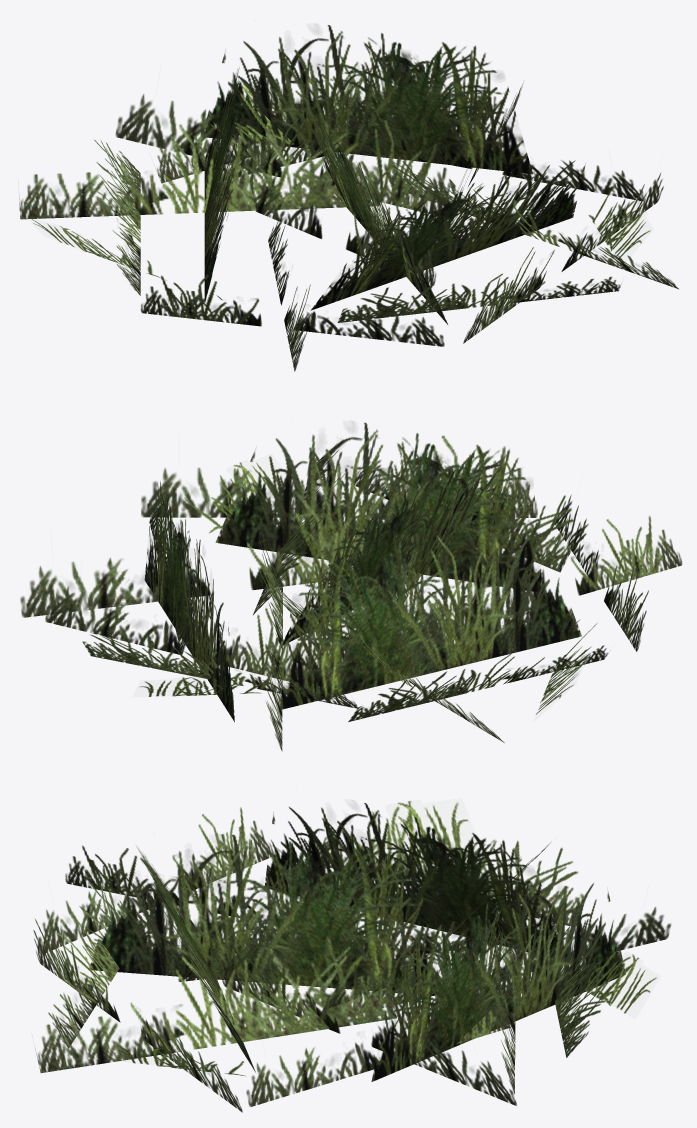
Rendered from grass_small.glb.
3 views of the same model, one above another, from view 1: azimuth 30°, elevation 25°; view 2: azimuth 150°, elevation 25°; view 3: azimuth 270°, elevation 25° (orthographic). The views are drawn at different scales.
Visible parts, largest first — view 1: grass3; view 2: grass3; view 3: grass3.
Part boxes in pixels (bbox=[...]): grass3: bbox=[19, 25, 678, 371]; grass3: bbox=[20, 422, 682, 751]; grass3: bbox=[33, 800, 671, 1112].
Bounding box in the file's own units: 2.94 × 0.6462 × 2.96.
Materials: 1 (1 with a texture image).
